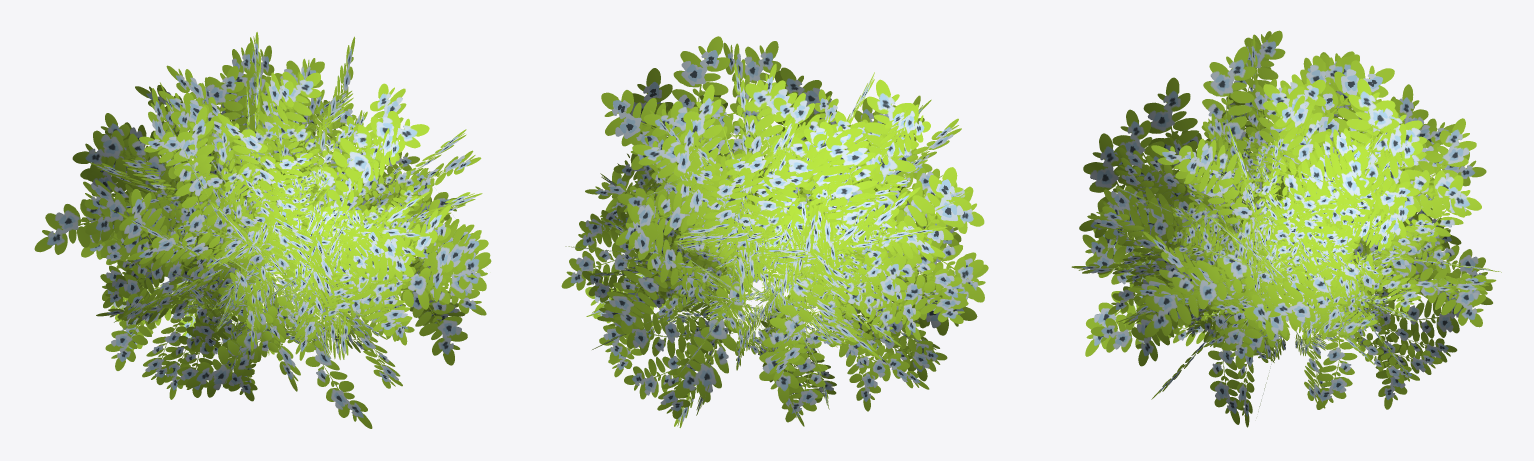
Rendered from Bush_Variant.FBX.
The picture shows the model from 3 angles, left to right: view 1: azimuth 30°, elevation 25°; view 2: azimuth 150°, elevation 25°; view 3: azimuth 270°, elevation 25°; orthographic projection. The views are drawn at different scales.
Parts seen in each view (by area): view 1: Bush_High001; view 2: Bush_High001; view 3: Bush_High001.
Boxes of the visible parts, box(x1,y1,x2,y2) form: Bush_High001: box(34, 32, 491, 428); Bush_High001: box(561, 36, 988, 427); Bush_High001: box(1071, 30, 1501, 427).
Bounding box in the file's own units: 508 × 424 × 517.
